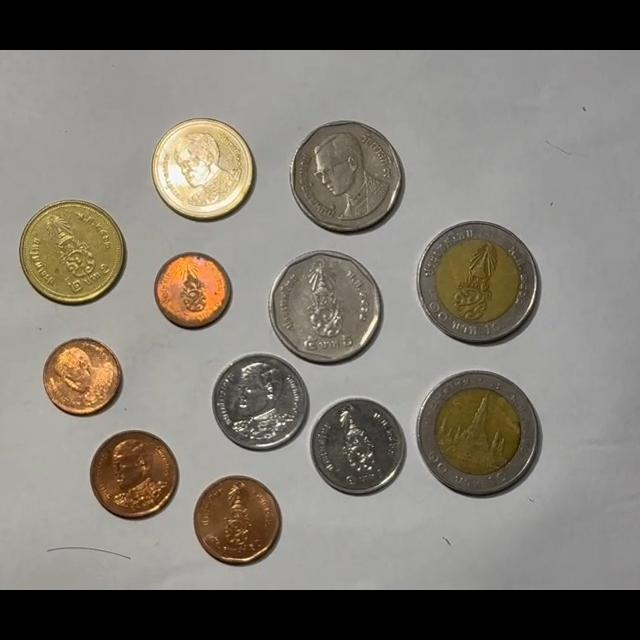1-baht: (310, 398, 408, 495), (212, 353, 309, 450)
10-baht: (416, 371, 541, 496), (416, 221, 540, 343)
2-baht: (20, 200, 125, 305), (152, 118, 256, 222)
25-satang: (44, 338, 124, 416), (154, 252, 232, 328)
5-baht: (288, 120, 404, 233), (269, 249, 383, 363)
50-satang: (90, 430, 178, 518), (193, 476, 281, 564)
